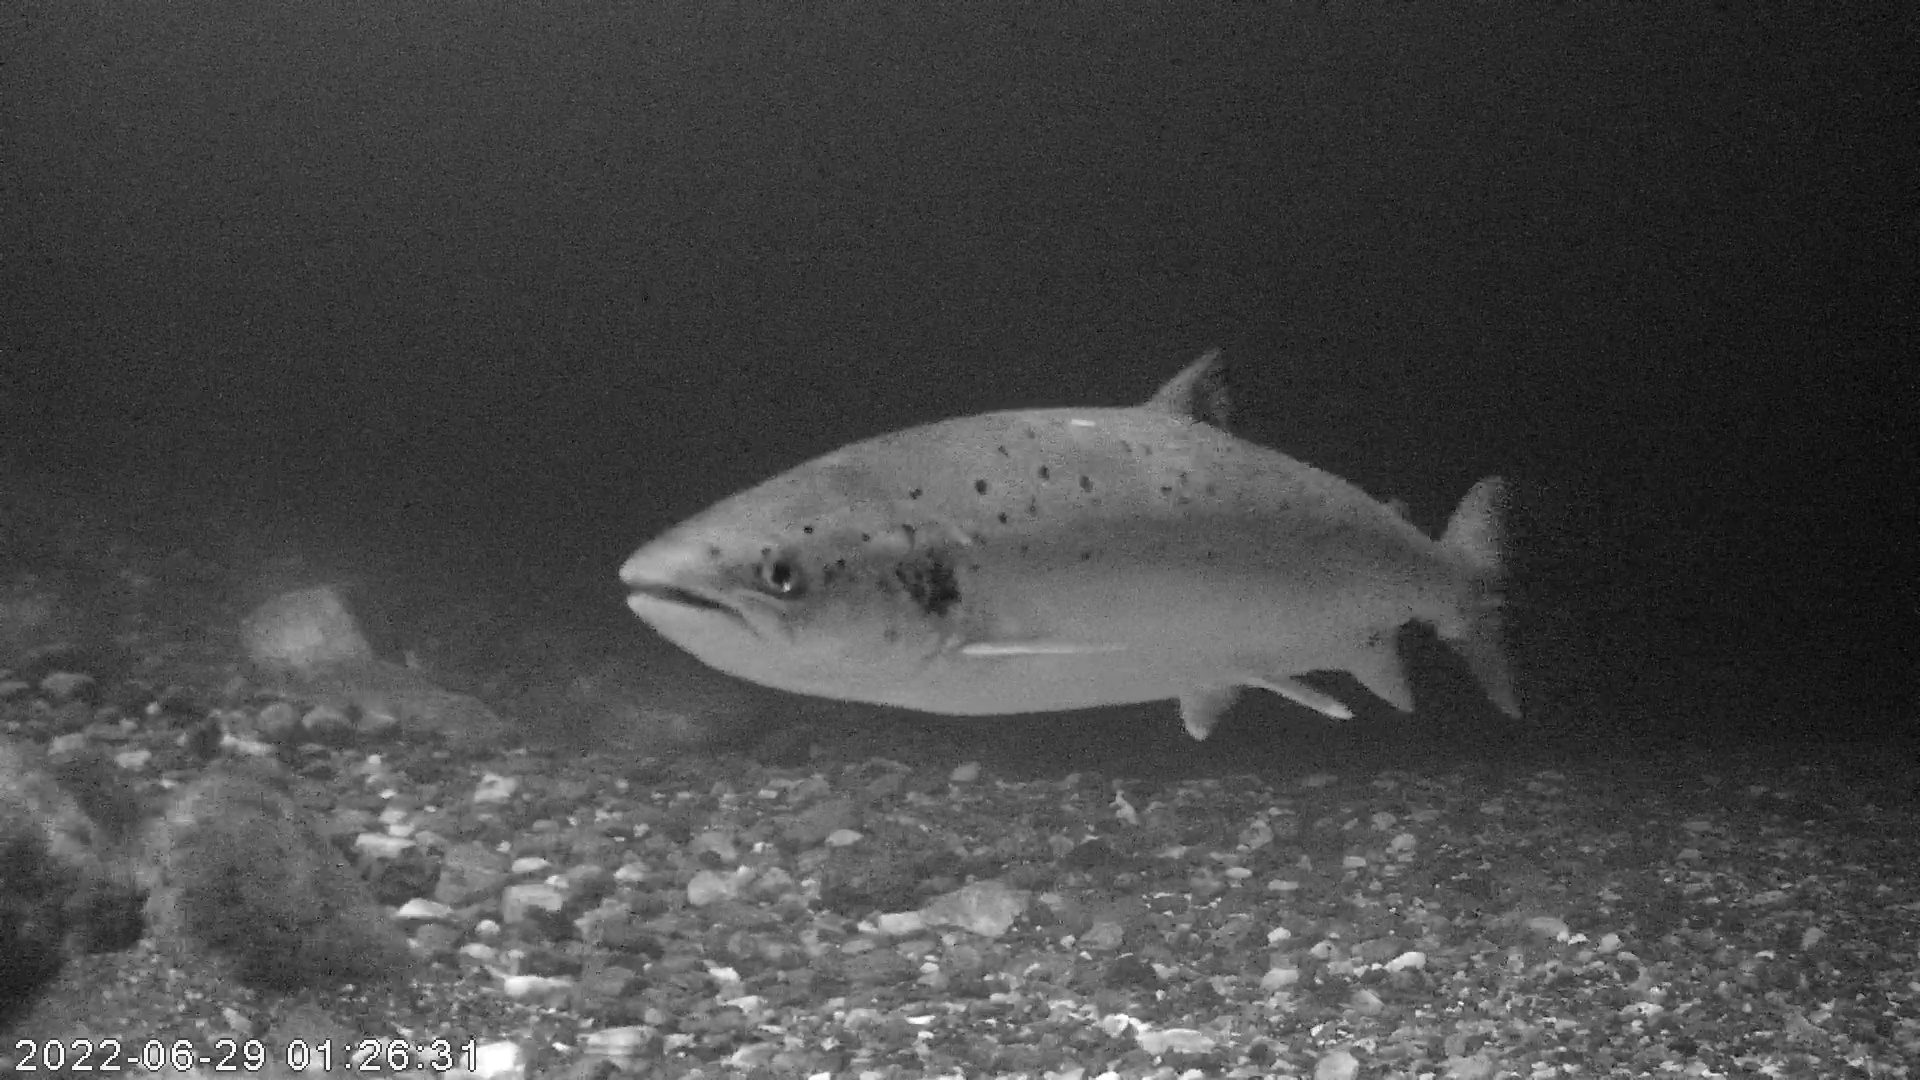salmon: (618, 289, 1510, 752)
